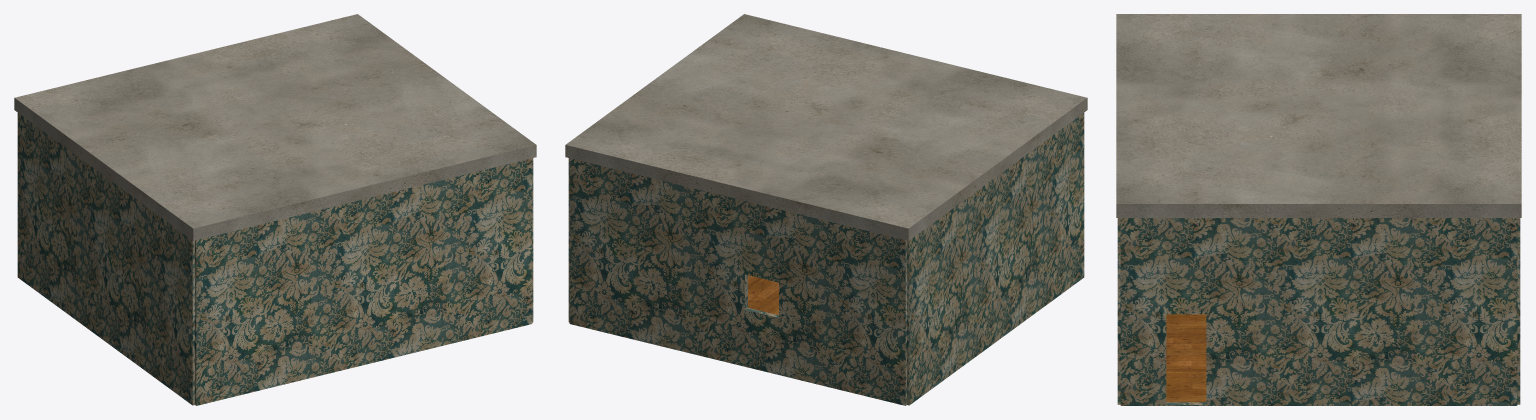
File: roombed.glb
3 renders of one model, left to right at view 1: azimuth 30°, elevation 25°; view 2: azimuth 150°, elevation 25°; view 3: azimuth 270°, elevation 25°, orthographic. The views are drawn at different scales.
Visible parts, largest first — view 1: Roof_Flat, Wall_3, Wall_2; view 2: Roof_Flat, Wall_1, Wall_2, Floor; view 3: Roof_Flat, Wall_4, Floor, Wall_1, Wall_3.
Boxes of the visible parts, <box> form: Roof_Flat: <box>14,14,536,240</box>; Wall_3: <box>195,158,532,405</box>; Wall_2: <box>17,113,194,405</box>; Roof_Flat: <box>565,14,1087,240</box>; Wall_1: <box>569,158,906,405</box>; Wall_2: <box>907,113,1084,405</box>; Floor: <box>748,275,778,315</box>; Roof_Flat: <box>1116,14,1521,217</box>; Wall_4: <box>1120,218,1517,405</box>; Floor: <box>1166,314,1206,402</box>; Wall_1: <box>1517,218,1520,404</box>; Wall_3: <box>1117,218,1120,404</box>.
Size of the model in its own units: 10.17 by 5.06 by 9.17.
Materials: 3 (3 with a texture image).
